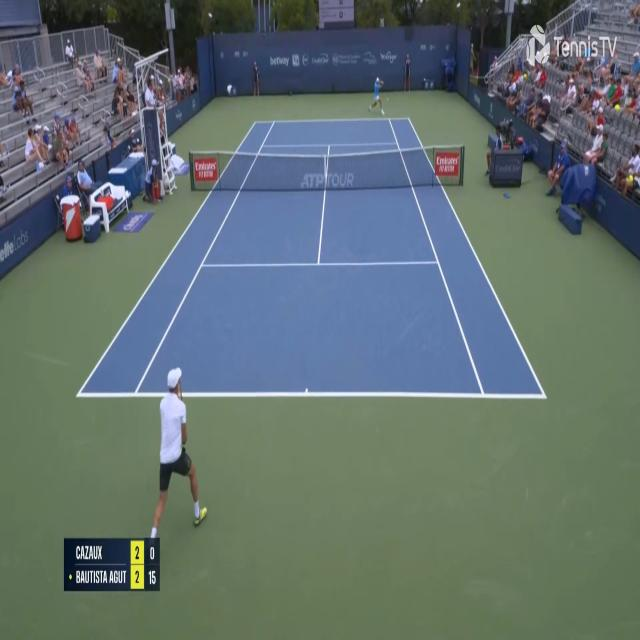tennis-player: (146, 309, 213, 540), (368, 75, 387, 118)
